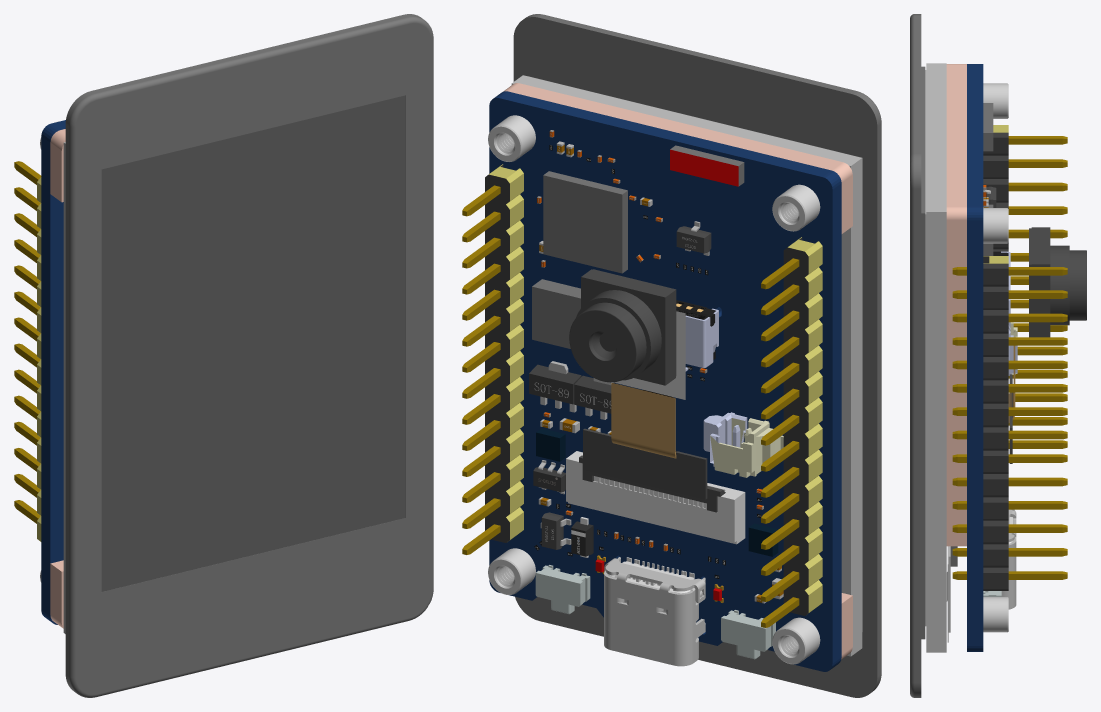
The model's file is board.glb.
The picture shows the model from 3 angles, left to right: view 1: azimuth 30°, elevation 25°; view 2: azimuth 150°, elevation 25°; view 3: azimuth 270°, elevation 25°; orthographic projection. The views are drawn at different scales.
Parts seen in each view (by area): view 1: object 1, PIN_HEADER-2_54MM_1X14PIN_1_3b30ea, object 232, PIN_HEADER-2_54MM_1X14PIN_1_5331c2; view 2: object 1, object 232, PIN_HEADER-2_54MM_1X14PIN_1_3751f2, PIN_HEADER-2_54MM_1X14PIN_dc93d4, PIN_HEADER-2_54MM_1X14PIN_7fab75, PIN_HEADER-2_54MM_1X14PIN_1_3b30ea, PIN_HEADER-2_54MM_1X14PIN_1_5331c2, PIN_HEADER-2_54MM_1X14PIN_9c4cbc, object 215, SWITCH-TS24CA, SWITCH-TS24CA_1, SMTSO-M2-2_5ET_2_6daf11 (+11 smaller); view 3: object 1, object 232, PIN_HEADER-2_54MM_1X14PIN_7fab75, PIN_HEADER-2_54MM_1X14PIN_dc93d4, PIN_HEADER-2_54MM_1X14PIN_1_3b30ea, PIN_HEADER-2_54MM_1X14PIN_1_3751f2, SMTSO-M2-2_5ET_a04e03, SMTSO-M2-2_5ET_3_15de68, SMTSO-M2-2_5ET_2_6daf11, object 215.
Boxes of the visible parts, x1,y1,x2,y2 form: object 1: [41, 14, 433, 697]; PIN_HEADER-2_54MM_1X14PIN_1_3b30ea: [14, 161, 41, 523]; object 232: [50, 129, 65, 628]; PIN_HEADER-2_54MM_1X14PIN_1_5331c2: [37, 177, 41, 541]; object 1: [489, 14, 881, 697]; object 232: [503, 83, 852, 659]; PIN_HEADER-2_54MM_1X14PIN_1_3751f2: [783, 237, 808, 615]; PIN_HEADER-2_54MM_1X14PIN_dc93d4: [485, 165, 509, 542]; PIN_HEADER-2_54MM_1X14PIN_7fab75: [462, 185, 500, 554]; PIN_HEADER-2_54MM_1X14PIN_1_3b30ea: [761, 258, 799, 627]; PIN_HEADER-2_54MM_1X14PIN_1_5331c2: [788, 237, 822, 612]; PIN_HEADER-2_54MM_1X14PIN_9c4cbc: [489, 164, 523, 540]; object 215: [571, 300, 747, 556]; SWITCH-TS24CA: [535, 565, 590, 614]; SWITCH-TS24CA_1: [721, 610, 775, 659]; SMTSO-M2-2_5ET_2_6daf11: [772, 184, 820, 231]; object 1: [910, 14, 1016, 697]; object 232: [946, 64, 1086, 546]; PIN_HEADER-2_54MM_1X14PIN_7fab75: [952, 267, 1067, 579]; PIN_HEADER-2_54MM_1X14PIN_dc93d4: [983, 256, 1008, 590]; PIN_HEADER-2_54MM_1X14PIN_1_3b30ea: [1008, 136, 1067, 448]; PIN_HEADER-2_54MM_1X14PIN_1_3751f2: [983, 132, 1008, 251]; SMTSO-M2-2_5ET_a04e03: [983, 597, 1008, 632]; SMTSO-M2-2_5ET_3_15de68: [983, 208, 1008, 243]; SMTSO-M2-2_5ET_2_6daf11: [983, 83, 1008, 118]; object 215: [993, 251, 1017, 375].
Size of the model in its own units: 0.0371 by 0.0588 by 0.0174.
